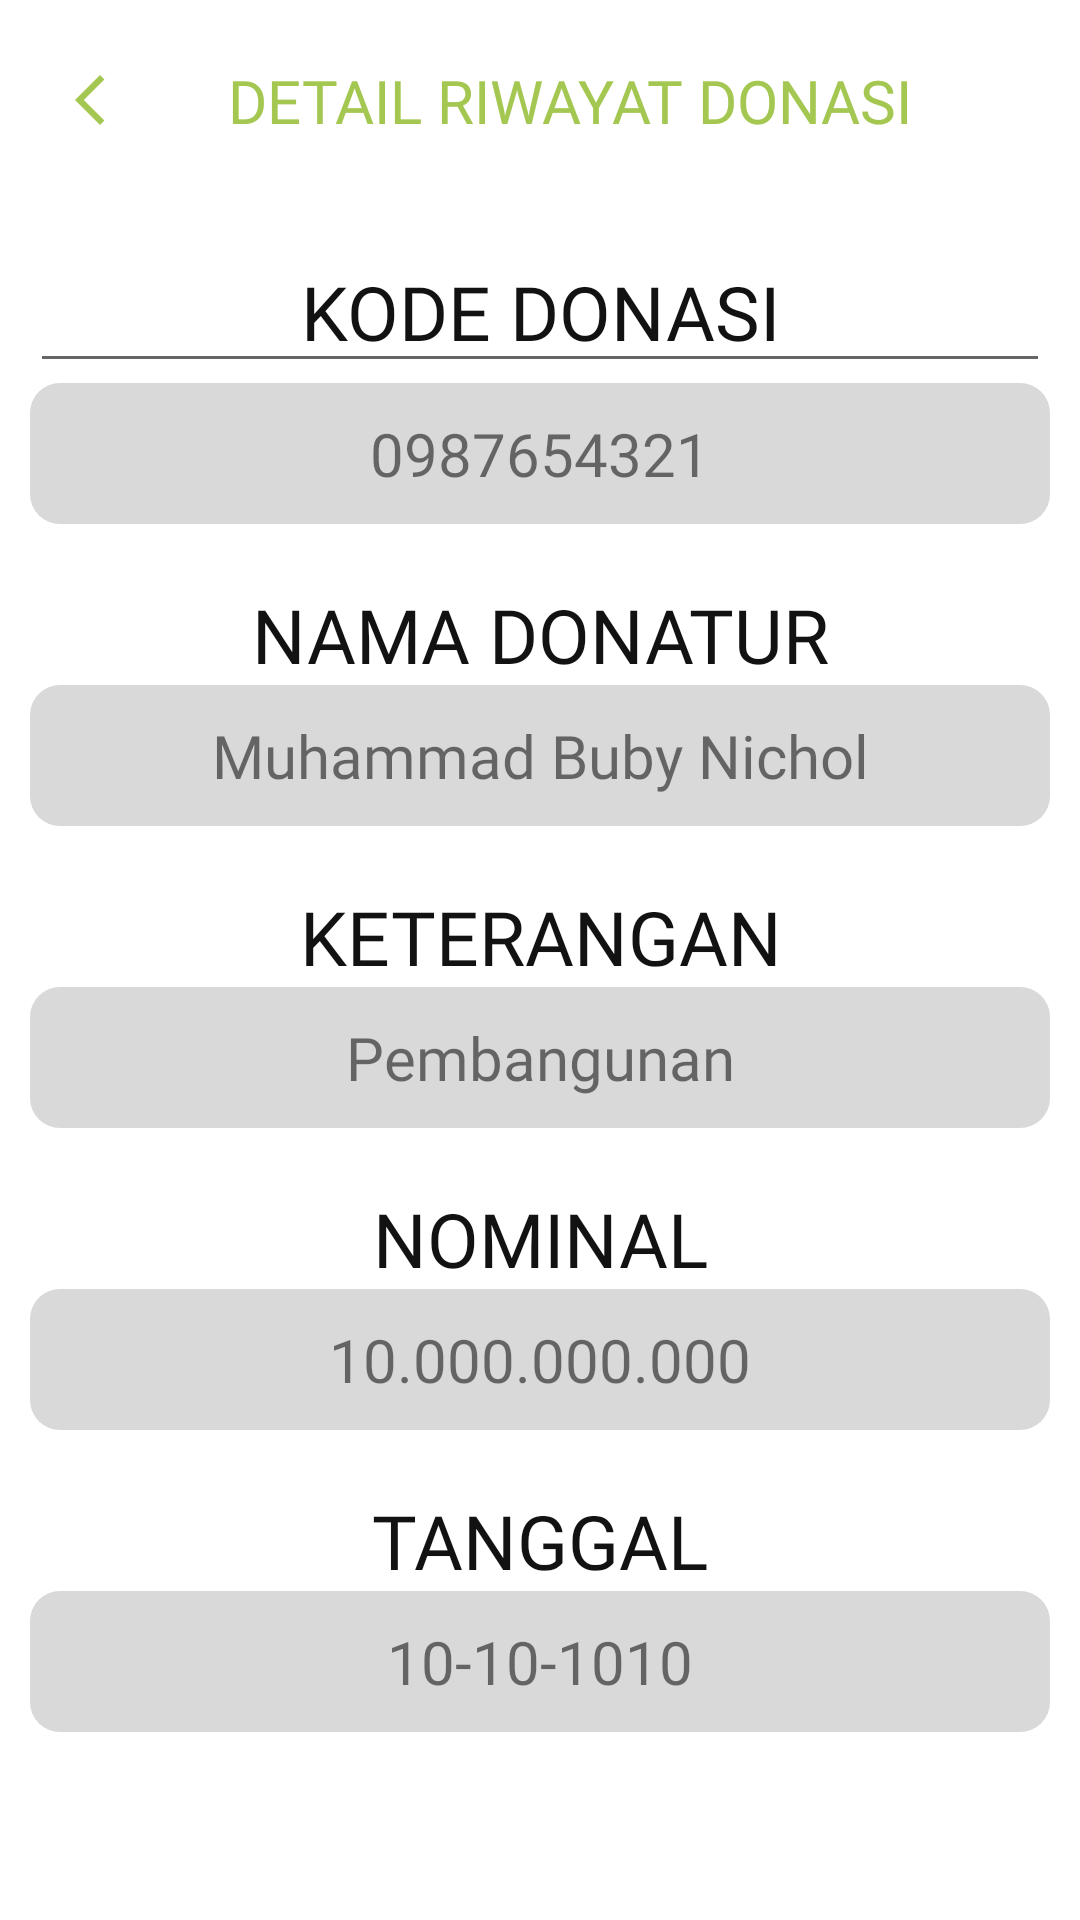

Where icons sit on this 1080*1920 app screen, as (x1, y1, x2, y2):
backberanda: (75, 75, 105, 125)
